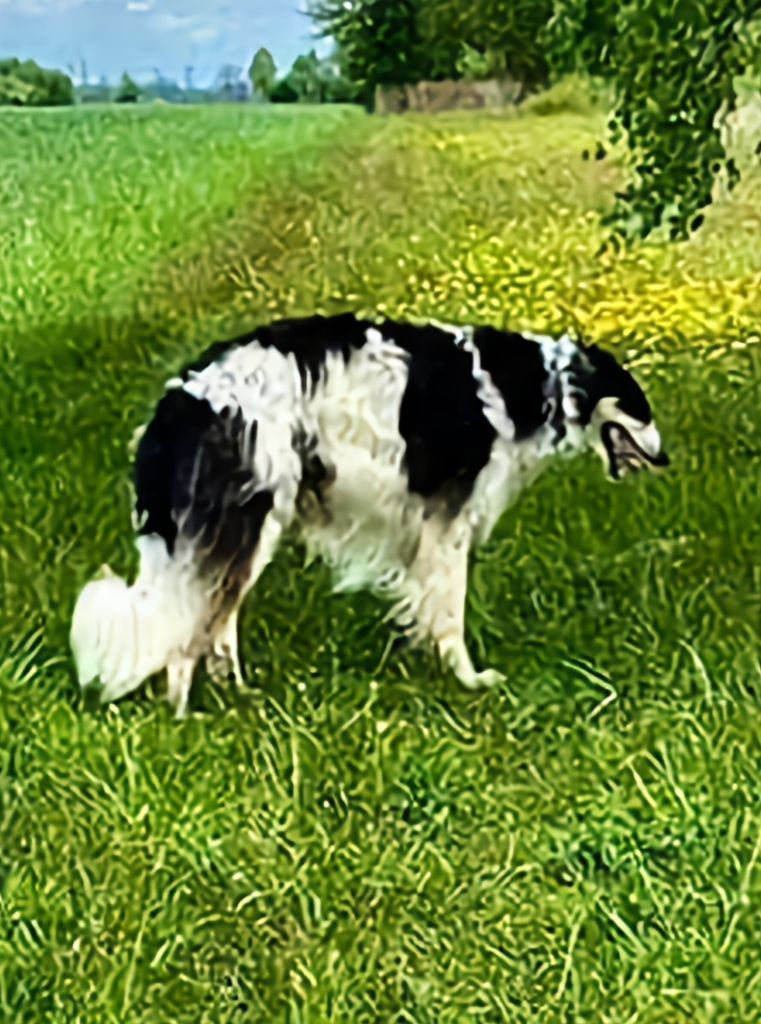borzoi: (35, 289, 714, 730)
